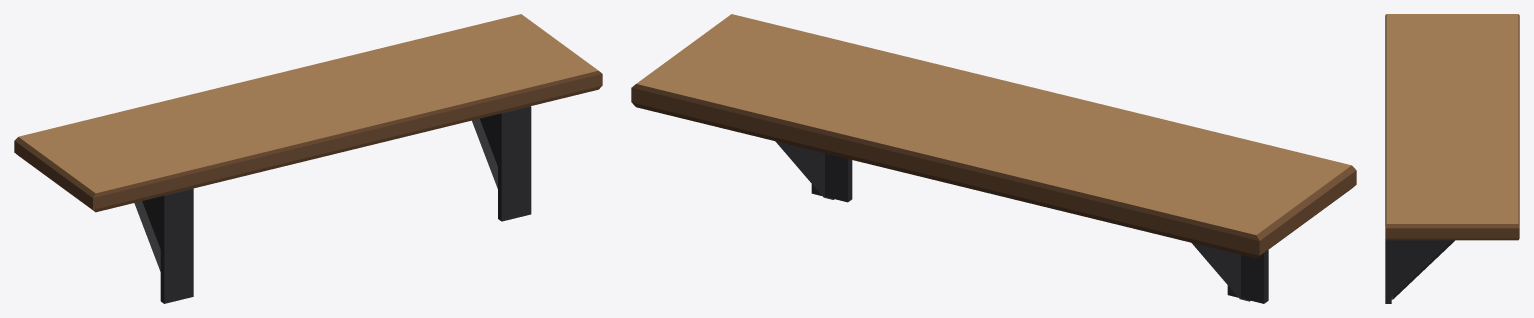
Rendered from FN_Shelf_Wall.obj.
3 views of the same model, side by side, from view 1: azimuth 30°, elevation 25°; view 2: azimuth 150°, elevation 25°; view 3: azimuth 270°, elevation 25° (orthographic). The views are drawn at different scales.
Visible parts, largest first — view 1: FN_Shelf_Wall; view 2: FN_Shelf_Wall; view 3: FN_Shelf_Wall.
Boxes of the visible parts, x1,y1,x2,y2 form: FN_Shelf_Wall: (14, 14, 602, 303); FN_Shelf_Wall: (631, 14, 1356, 303); FN_Shelf_Wall: (1385, 14, 1519, 303).
Bounding box in the file's own units: 0.9 × 0.214 × 0.24.
1 material, 1 textured.
